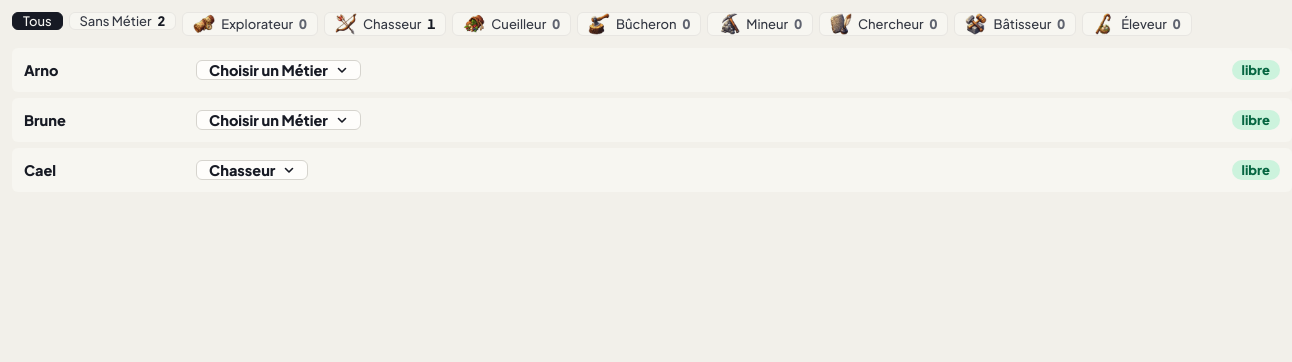
Test: donner un Métier depuis la ligne d'un Habitant (US-0308) › referme d'un second toucher sur « Choisir un Métier », sans rien changer
Click the button "Choisir un Métier" next to "Arno". click: x=278, y=70
box: [196,60,361,80]
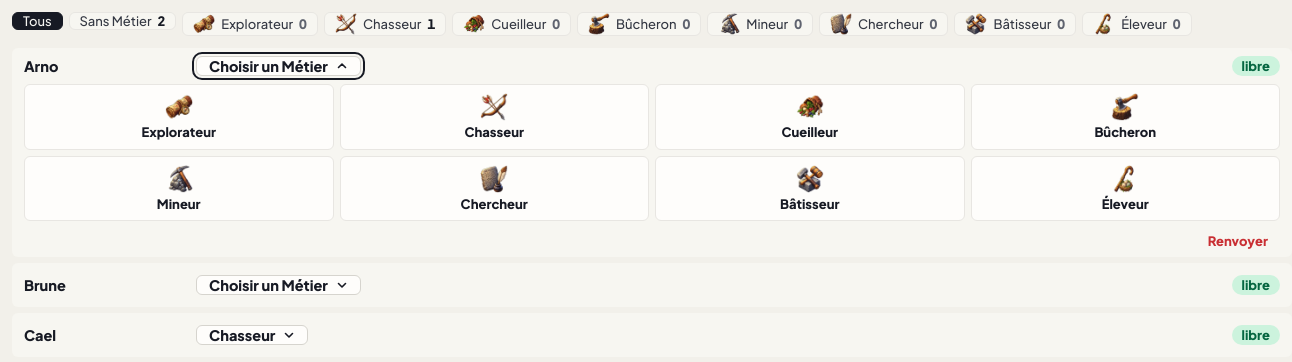
Click the button "Choisir un Métier" next to "Arno". click: x=278, y=66
box: [196,56,361,76]
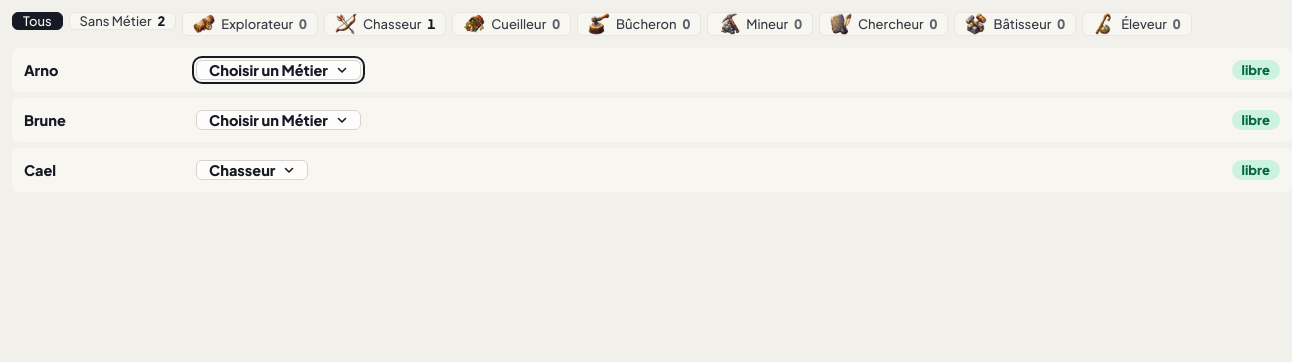
Check: the button "Choisir un Métier" next to "Arno" is collapsed, box [196,60,361,80]
